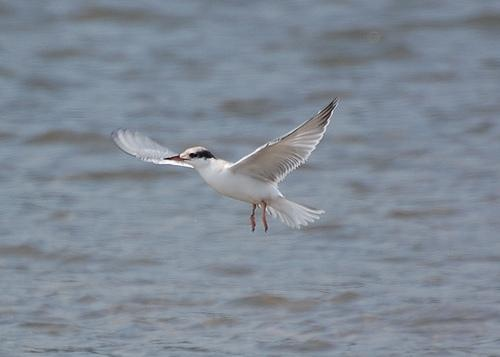bird: (106, 96, 347, 229)
